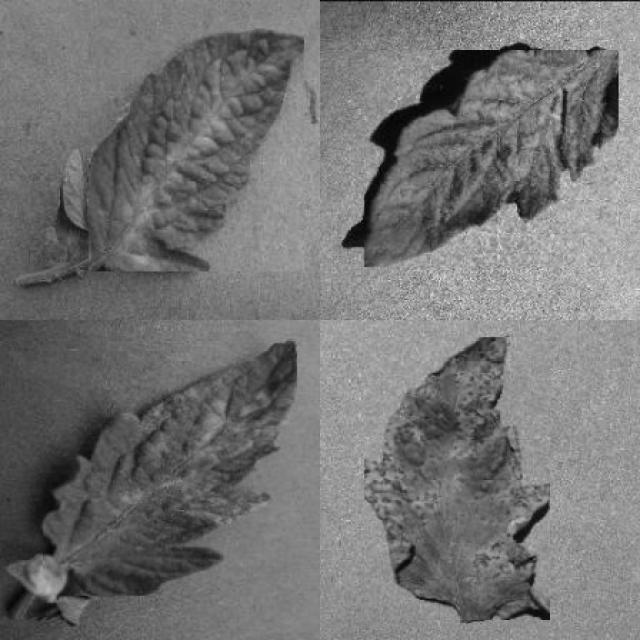Leaf Mold: (42, 338, 298, 596), (89, 28, 304, 272)
Mosaic Virus: (364, 50, 619, 267)
Septoria: (365, 337, 551, 620)
